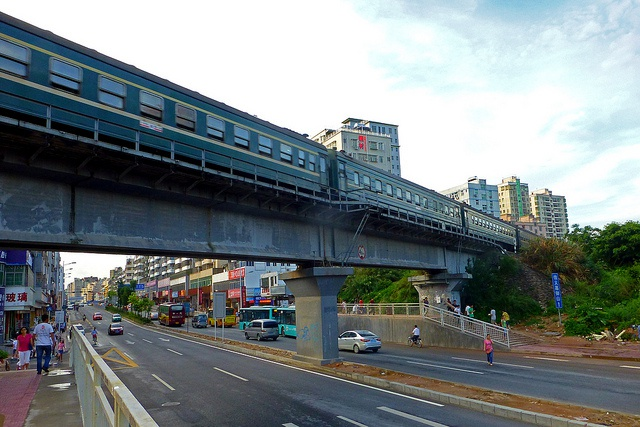non-vehicle: (407, 334, 422, 346), (92, 331, 97, 345)
